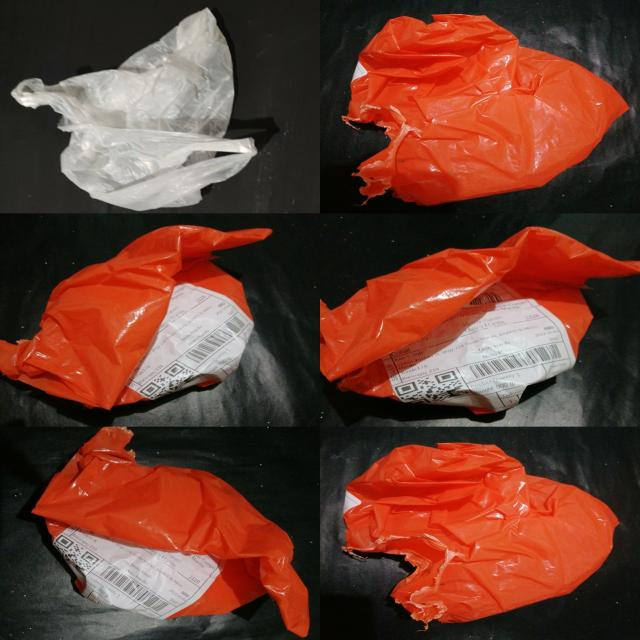Single-layer Plastic: (320, 228, 639, 412), (34, 428, 309, 636), (344, 14, 628, 205), (344, 442, 618, 624), (0, 225, 270, 409), (11, 9, 256, 209)
